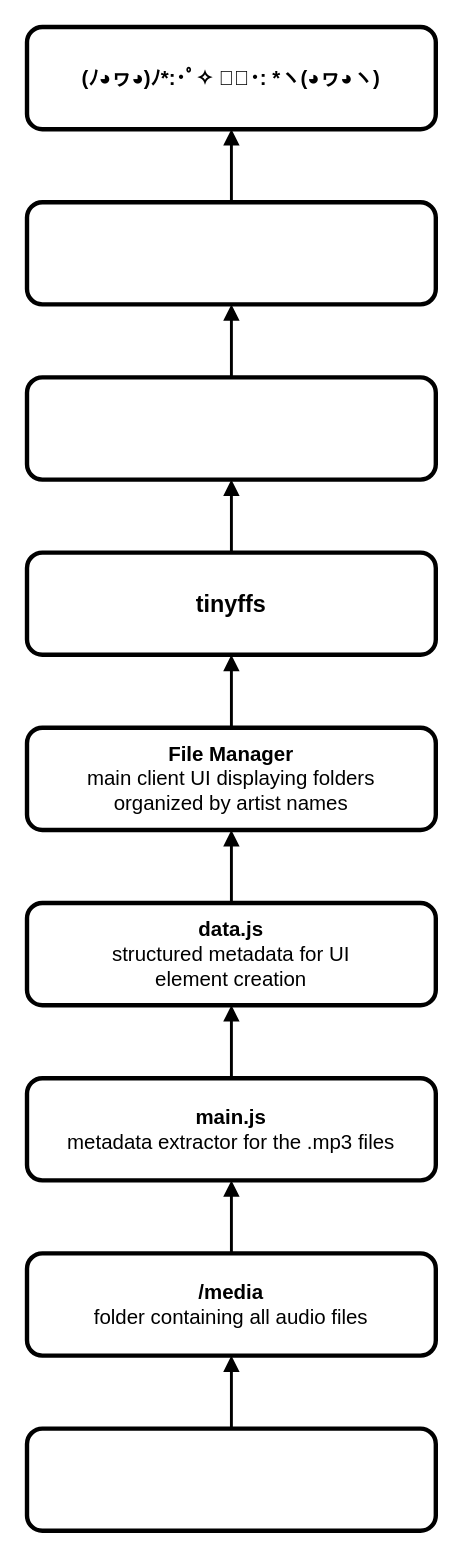
Image size: 463x1558. Some labels were removed from this diagram. The shapes that lost their labels are listed below. From the top down, each one's centre as x and y in pixels, then its label:
[230,252]: hub buck archive tinyffs pushed to Fillecoin
[230,427]: hub buck push tinyffs hosting with Textile/IPFS
[230,1479]: F.M.A. Dataset
